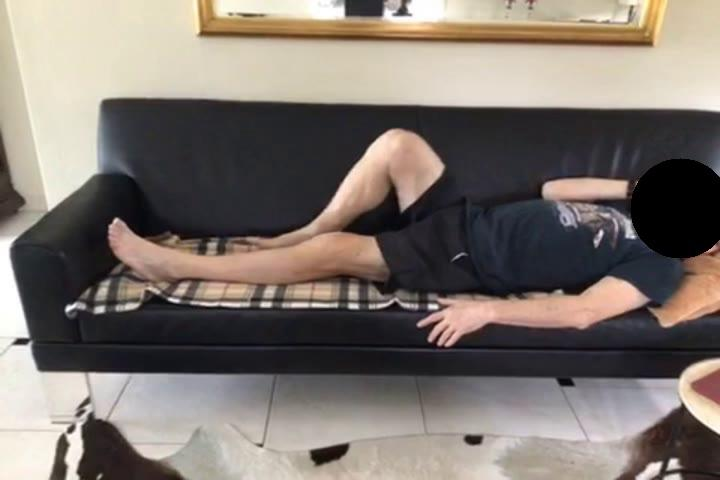lower_body: (108, 128, 486, 295)
